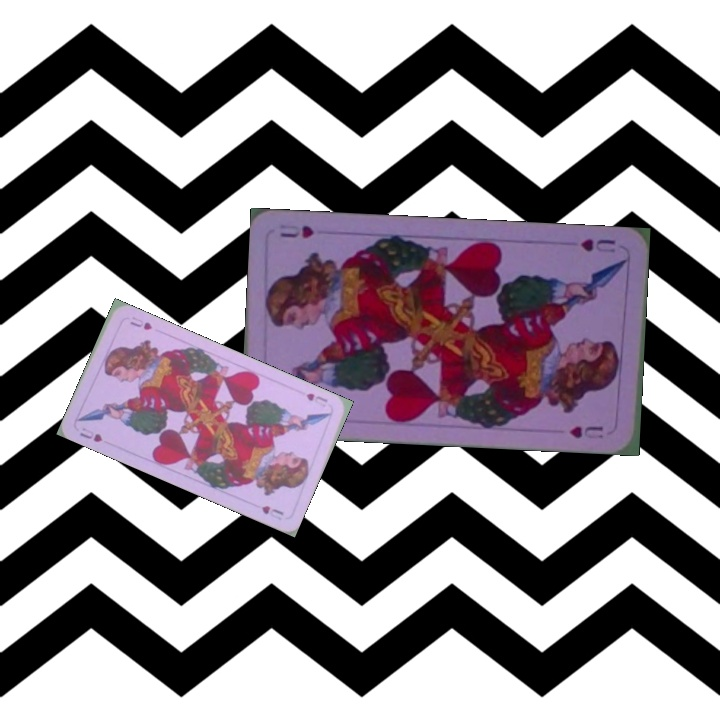HU: (577, 235, 618, 255), (75, 423, 105, 445), (302, 389, 330, 410)
